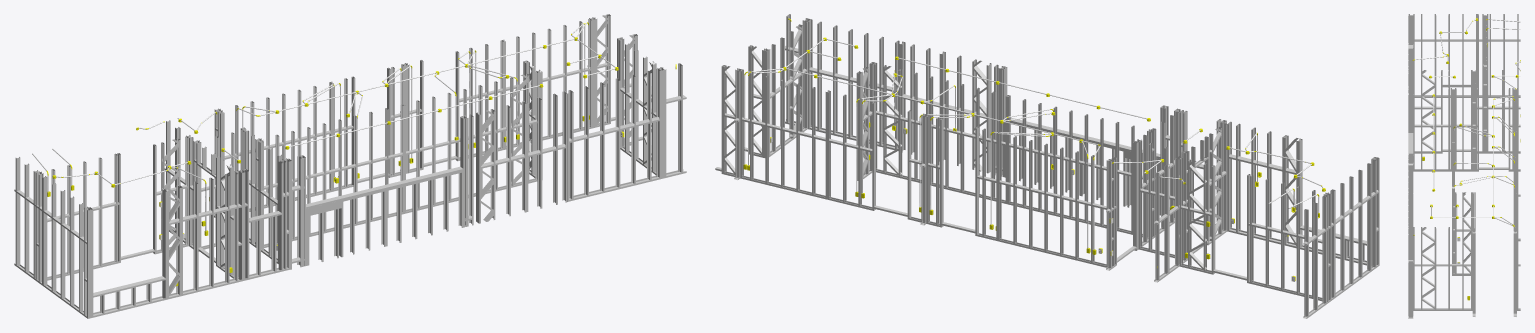
Rendered from bho-circulacao-escada.glb.
The picture shows the model from 3 angles, left to right: view 1: azimuth 30°, elevation 25°; view 2: azimuth 150°, elevation 25°; view 3: azimuth 270°, elevation 25°; orthographic projection. The views are drawn at different scales.
Visible parts, largest first — view 1: DirectShape Modelos genéricos <299415 Componente#1534<, DirectShape Modelos genéricos <297166 Componente#239<, DirectShape Modelos genéricos <297145 Componente#237<, DirectShape Modelos genéricos <299503 Componente#1685<, DirectShape Modelos genéricos <299385 Componente#1568<, DirectShape Modelos genéricos <299552 Componente#1691<, DirectShape Modelos genéricos <299389 Componente#1570<, DirectShape Modelos genéricos <299317 Componente#1521<, DirectShape Modelos genéricos <299355 Componente#1513<, DirectShape Modelos genéricos <299319 Componente#1512<, DirectShape Modelos genéricos <299416 Componente#1525<, DirectShape Modelos genéricos <297040 Componente#163< (+37 smaller); view 2: DirectShape Modelos genéricos <297126 Componente#207<, DirectShape Modelos genéricos <299319 Componente#1512<, DirectShape Modelos genéricos <300668 Componente#2056<, DirectShape Modelos genéricos <300786 Componente#2133<, DirectShape Modelos genéricos <300953 Componente#2367<, DirectShape Modelos genéricos <299429 Componente#1602<, DirectShape Modelos genéricos <300876 Componente#2186<, DirectShape Modelos genéricos <299552 Componente#1691<, DirectShape Modelos genéricos <299441 Componente#1605<, DirectShape Modelos genéricos <300696 Componente#2066<, DirectShape Modelos genéricos <299324 Componente#1522<, DirectShape Modelos genéricos <300792 Componente#2137< (+26 smaller); view 3: DirectShape Modelos genéricos <299516 Componente#1698<, DirectShape Modelos genéricos <301024 Componente#2401<, DirectShape Modelos genéricos <301051 Componente#2400<, DirectShape Modelos genéricos <300737 Componente#2100<, DirectShape Modelos genéricos <300786 Componente#2133<, DirectShape Modelos genéricos <299438 Componente#1609<, DirectShape Modelos genéricos <301011 Componente#2379<, DirectShape Modelos genéricos <299435 Componente#1599<, DirectShape Modelos genéricos <297052 Componente#166<, DirectShape Modelos genéricos <299314 Componente#1520<, DirectShape Modelos genéricos <299433 Componente#1611<, DirectShape Modelos genéricos <299426 Componente#1624< (+47 smaller).
Part boxes in pixels (bbox=[...]): DirectShape Modelos genéricos <299415 Componente#1534<: bbox=[162, 189, 167, 299]; DirectShape Modelos genéricos <297166 Componente#239<: bbox=[537, 97, 542, 208]; DirectShape Modelos genéricos <297145 Componente#237<: bbox=[562, 91, 567, 202]; DirectShape Modelos genéricos <299503 Componente#1685<: bbox=[656, 68, 661, 179]; DirectShape Modelos genéricos <299385 Componente#1568<: bbox=[193, 181, 198, 290]; DirectShape Modelos genéricos <299552 Componente#1691<: bbox=[615, 78, 620, 189]; DirectShape Modelos genéricos <299389 Componente#1570<: bbox=[233, 171, 238, 280]; DirectShape Modelos genéricos <299317 Componente#1521<: bbox=[51, 183, 56, 292]; DirectShape Modelos genéricos <299355 Componente#1513<: bbox=[24, 163, 29, 272]; DirectShape Modelos genéricos <299319 Componente#1512<: bbox=[15, 157, 20, 265]; DirectShape Modelos genéricos <299416 Componente#1525<: bbox=[60, 190, 65, 298]; DirectShape Modelos genéricos <297040 Componente#163<: bbox=[297, 156, 302, 267]; DirectShape Modelos genéricos <297126 Componente#207<: bbox=[986, 63, 991, 173]; DirectShape Modelos genéricos <299319 Componente#1512<: bbox=[1304, 209, 1308, 316]; DirectShape Modelos genéricos <300668 Componente#2056<: bbox=[1155, 172, 1159, 280]; DirectShape Modelos genéricos <300786 Componente#2133<: bbox=[1138, 140, 1142, 249]; DirectShape Modelos genéricos <300953 Componente#2367<: bbox=[736, 70, 740, 177]; DirectShape Modelos genéricos <299429 Componente#1602<: bbox=[1107, 161, 1111, 268]; DirectShape Modelos genéricos <300876 Componente#2186<: bbox=[922, 115, 926, 223]; DirectShape Modelos genéricos <299552 Componente#1691<: bbox=[848, 29, 852, 139]; DirectShape Modelos genéricos <299441 Componente#1605<: bbox=[1133, 142, 1137, 250]; DirectShape Modelos genéricos <300696 Componente#2066<: bbox=[1223, 123, 1227, 231]; DirectShape Modelos genéricos <299324 Componente#1522<: bbox=[1372, 159, 1376, 267]; DirectShape Modelos genéricos <300792 Componente#2137<: bbox=[1148, 143, 1152, 251]; DirectShape Modelos genéricos <299516 Componente#1698<: bbox=[1408, 234, 1413, 317]; DirectShape Modelos genéricos <301024 Componente#2401<: bbox=[1513, 233, 1516, 316]; DirectShape Modelos genéricos <301051 Componente#2400<: bbox=[1472, 233, 1475, 316]; DirectShape Modelos genéricos <300737 Componente#2100<: bbox=[1483, 69, 1486, 151]; DirectShape Modelos genéricos <300786 Componente#2133<: bbox=[1472, 87, 1475, 169]; DirectShape Modelos genéricos <299438 Componente#1609<: bbox=[1434, 88, 1436, 171]; DirectShape Modelos genéricos <301011 Componente#2379<: bbox=[1434, 227, 1436, 310]; DirectShape Modelos genéricos <299435 Componente#1599<: bbox=[1508, 88, 1510, 170]; DirectShape Modelos genéricos <297052 Componente#166<: bbox=[1408, 94, 1413, 132]; DirectShape Modelos genéricos <299314 Componente#1520<: bbox=[1413, 39, 1477, 41]; DirectShape Modelos genéricos <299433 Componente#1611<: bbox=[1414, 124, 1477, 127]; DirectShape Modelos genéricos <299426 Componente#1624<: bbox=[1450, 88, 1451, 171].
Bounding box in the file's own units: 15.32 × 2.66 × 3.26.
